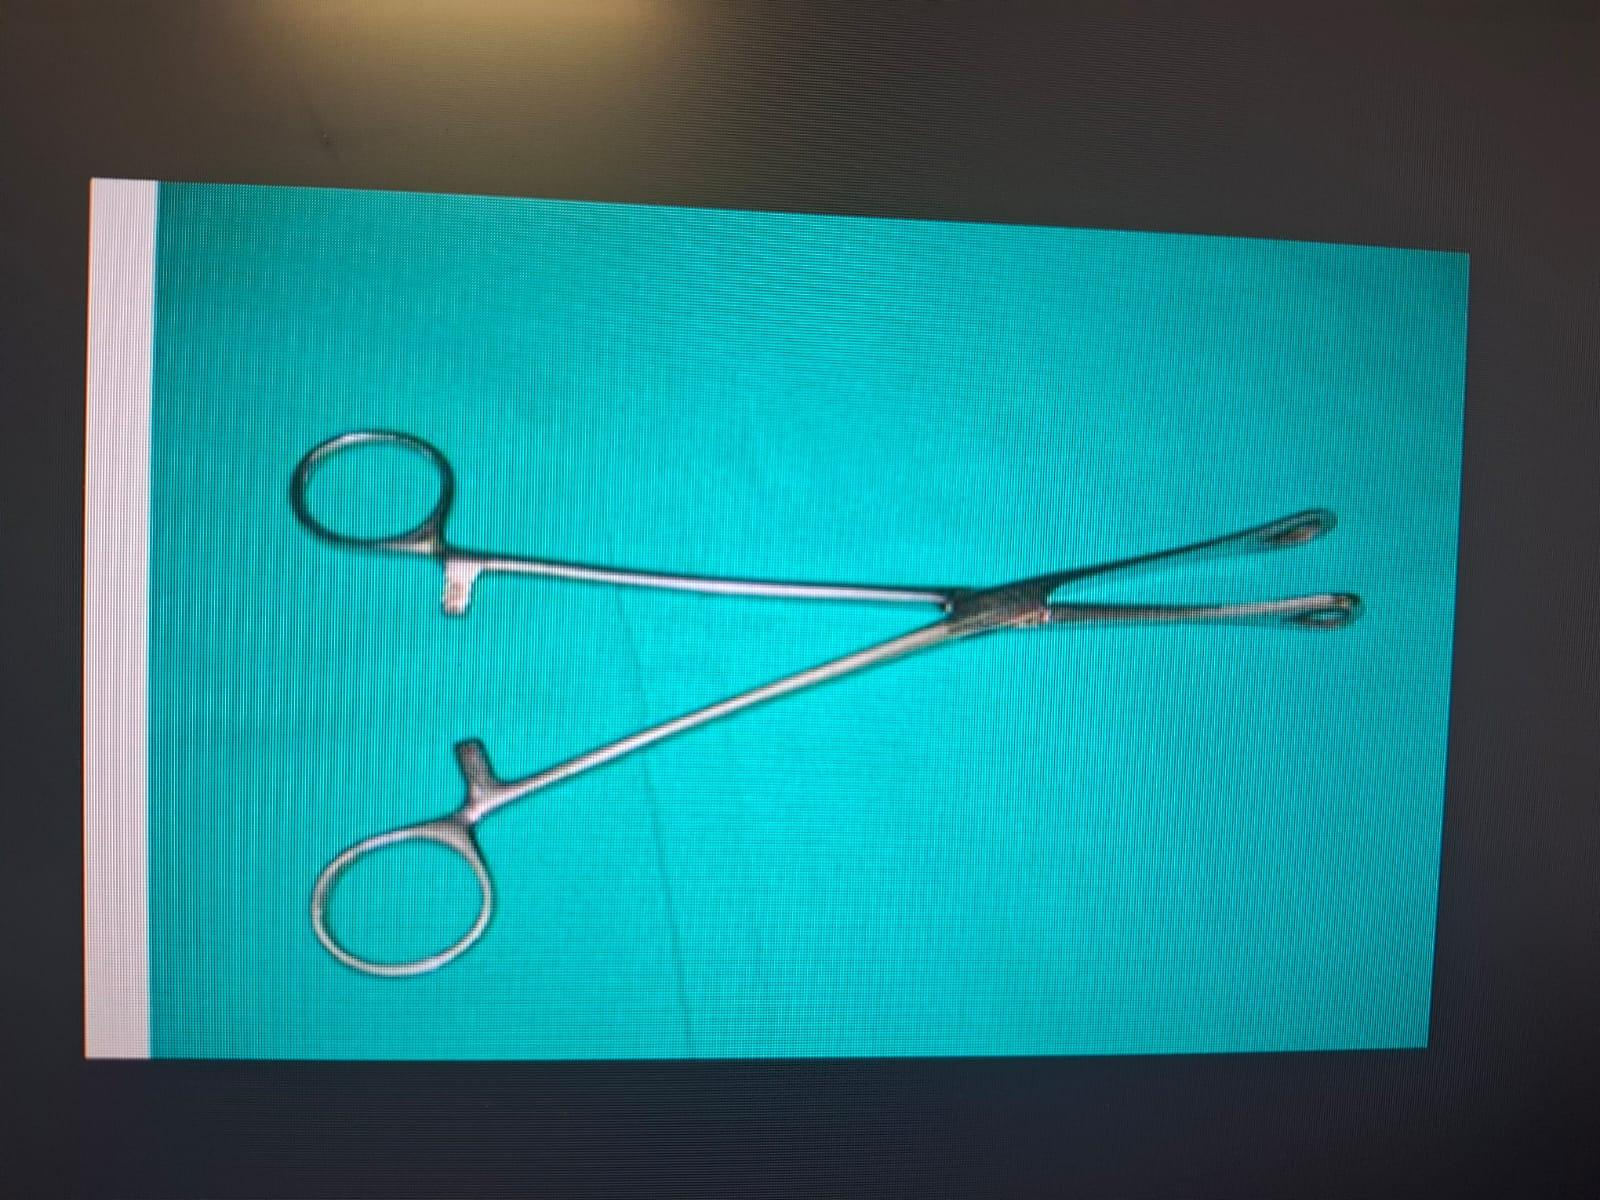Sponge Holding Forceps: (256, 400, 1376, 992)
